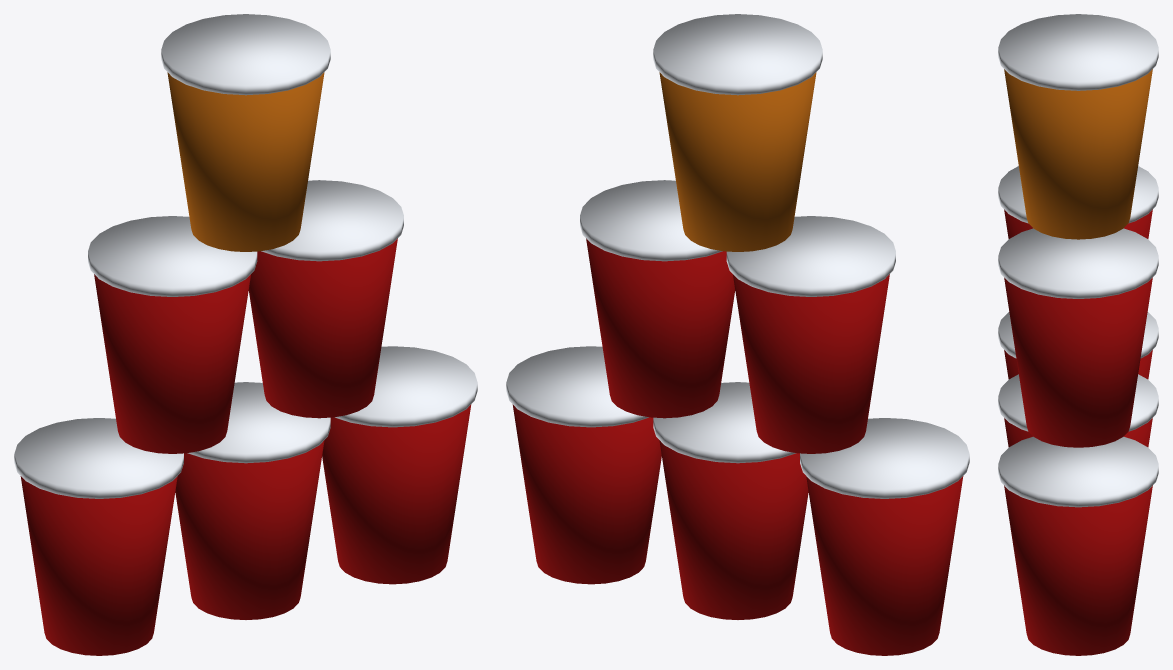
The model's file is cozy_tt_target_cup_pyramid.obj.
3 renders of one model, left to right at view 1: azimuth 30°, elevation 25°; view 2: azimuth 150°, elevation 25°; view 3: azimuth 270°, elevation 25°, orthographic. The views are drawn at different scales.
Parts seen in each view (by area): view 1: cozy_tt_target_cup_pyramid_Mesh; view 2: cozy_tt_target_cup_pyramid_Mesh; view 3: cozy_tt_target_cup_pyramid_Mesh.
Part boxes in pixels (x1=…): cozy_tt_target_cup_pyramid_Mesh: x1=14, y1=14, x2=477, y2=655; cozy_tt_target_cup_pyramid_Mesh: x1=506, y1=14, x2=969, y2=655; cozy_tt_target_cup_pyramid_Mesh: x1=998, y1=14, x2=1158, y2=655.
Size of the model in its own units: 0.288 by 0.342 by 0.096.
